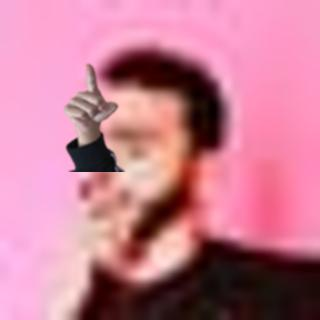IRRITATED: (62, 62, 120, 131)
